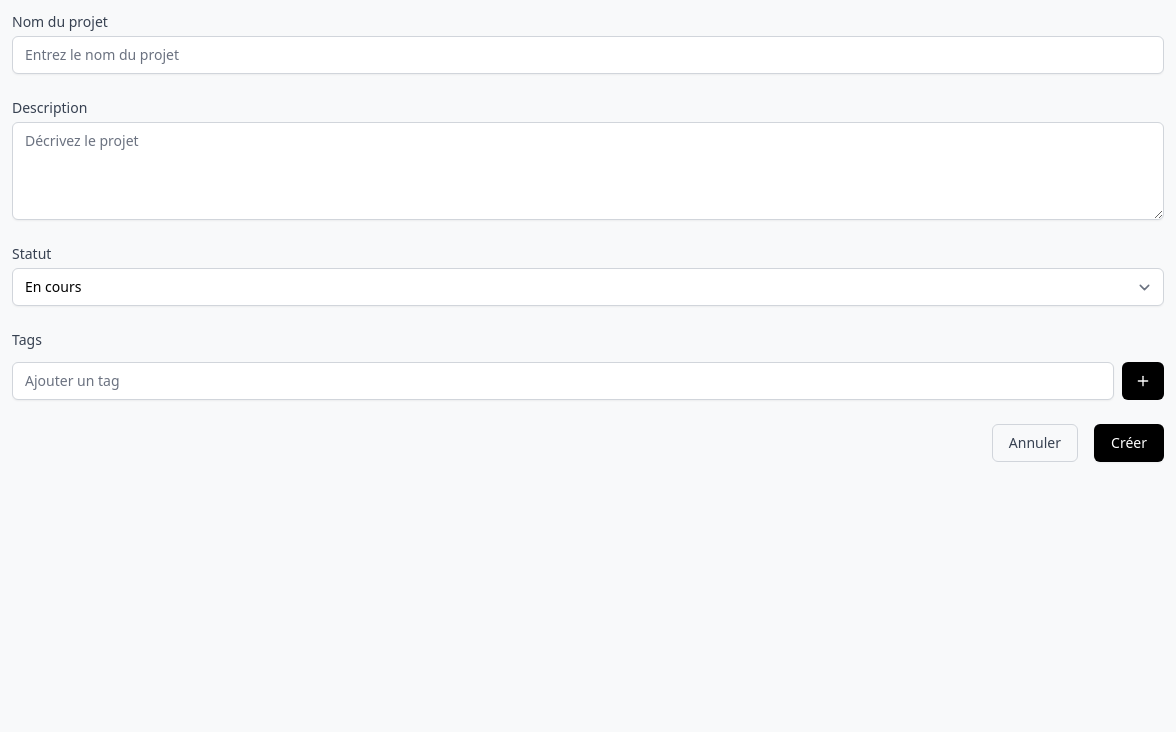
it: ProjectForm › devrait gérer les erreurs de validation
Click the button "Créer" at (1129,443), box [1094,424,1164,462]
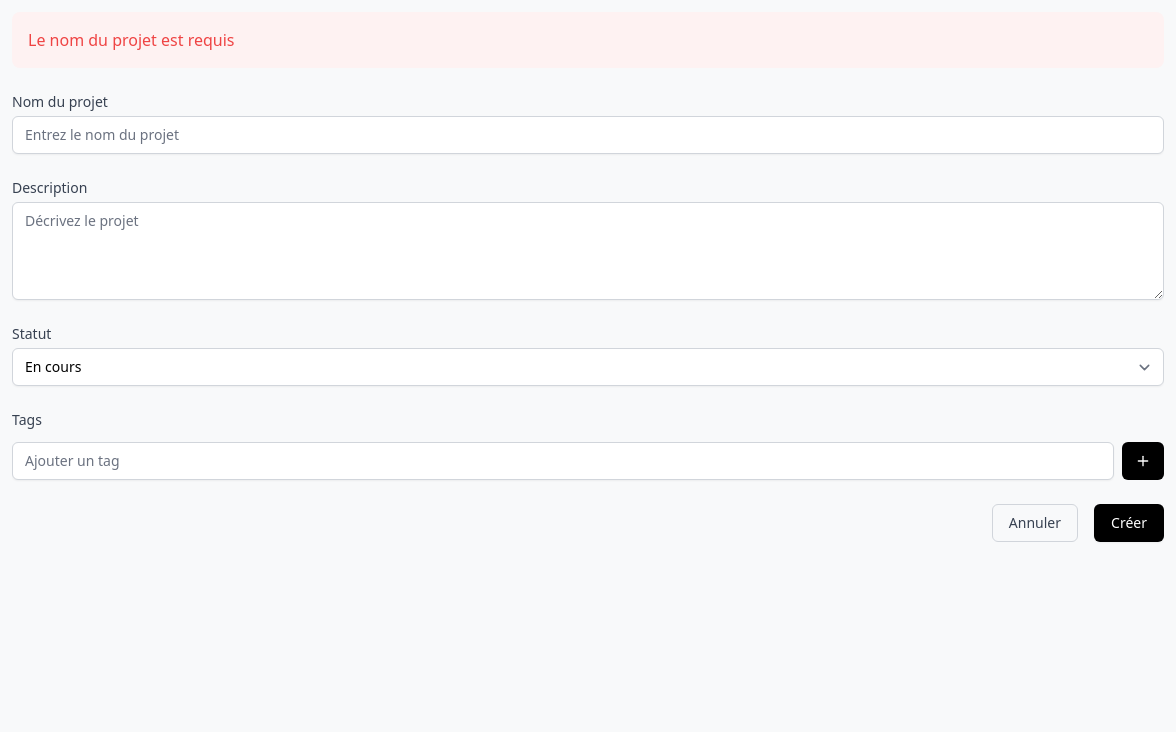
Expected: the text "Le nom du projet est requis" is shown, [12,12,1164,68]
